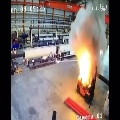fire: (78, 50, 90, 86)
